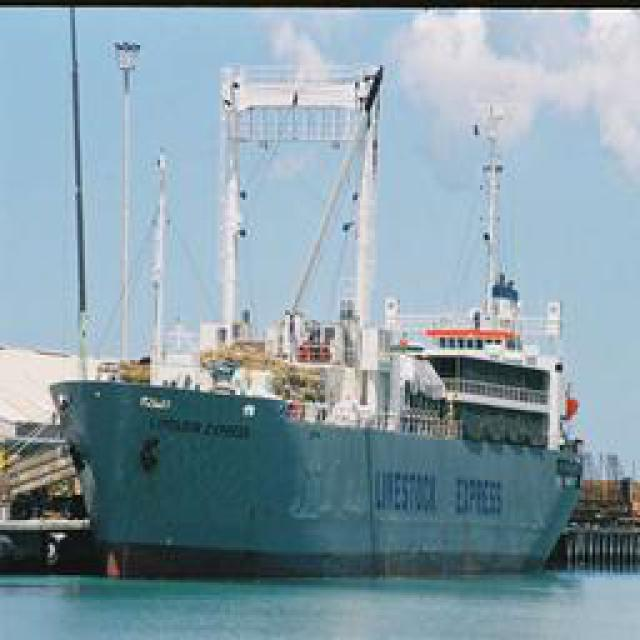Ship: (27, 1, 590, 576)
